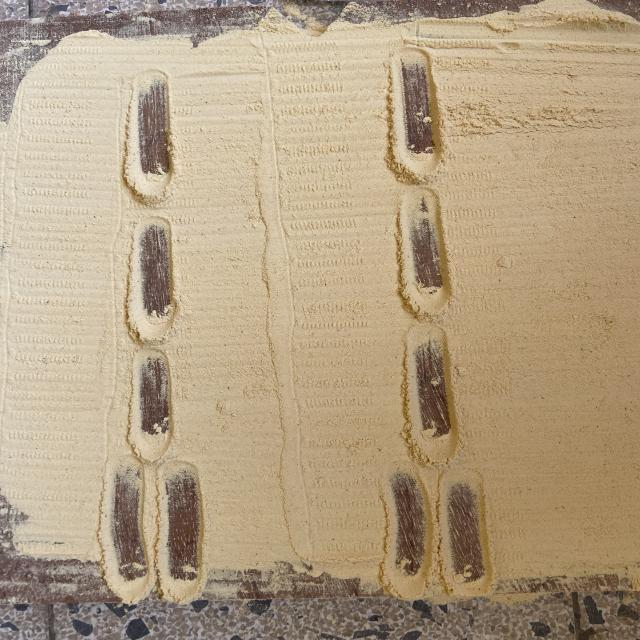double: (96, 460, 210, 600), (378, 469, 496, 594)
single: (382, 45, 449, 185), (400, 320, 460, 470), (119, 63, 184, 201), (392, 188, 454, 318), (127, 211, 180, 343), (124, 348, 178, 464)
